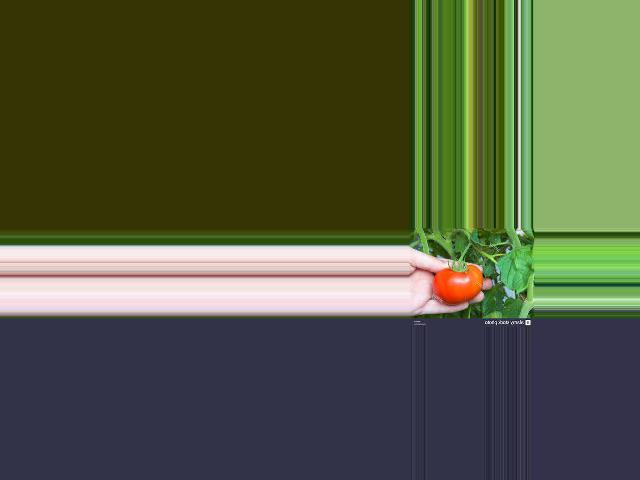tomato: (431, 265, 482, 304)
